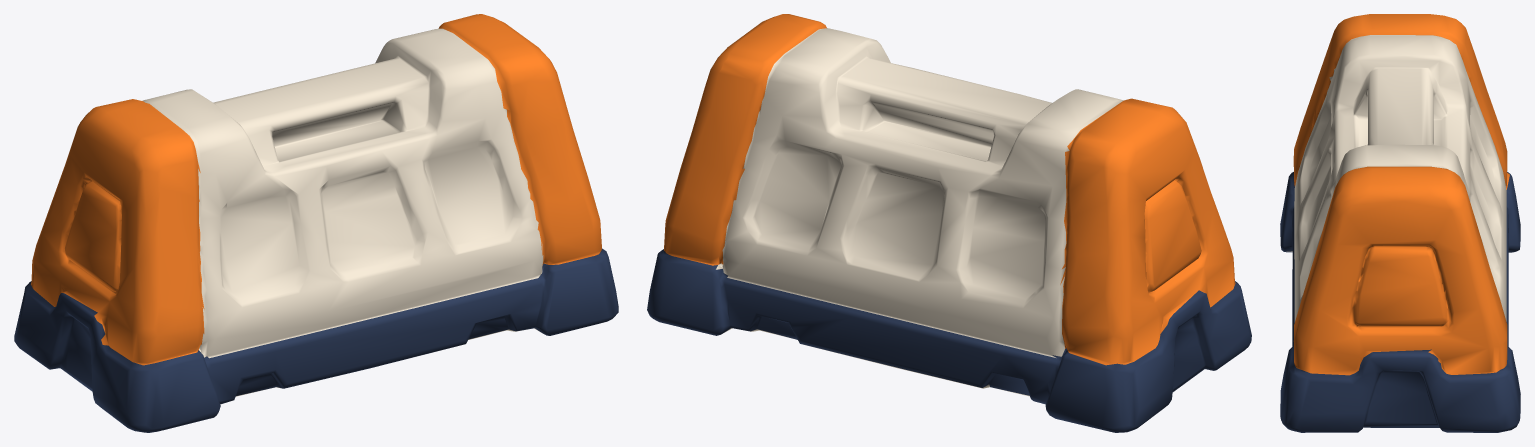
File: cargo-barrier.glb
3 views of the same model, side by side, from view 1: azimuth 30°, elevation 25°; view 2: azimuth 150°, elevation 25°; view 3: azimuth 270°, elevation 25° (orthographic). The views are drawn at different scales.
Visible parts, largest first — view 1: cream-orange-cover-barrier_LOD0; view 2: cream-orange-cover-barrier_LOD0; view 3: cream-orange-cover-barrier_LOD0.
Boxes of the visible parts, <box> form: cream-orange-cover-barrier_LOD0: <box>14,14,618,432</box>; cream-orange-cover-barrier_LOD0: <box>647,14,1251,432</box>; cream-orange-cover-barrier_LOD0: <box>1280,14,1520,432</box>.
Bounding box in the file's own units: 1.52 × 0.7493 × 0.715.
Materials: 1 (1 with a texture image).
